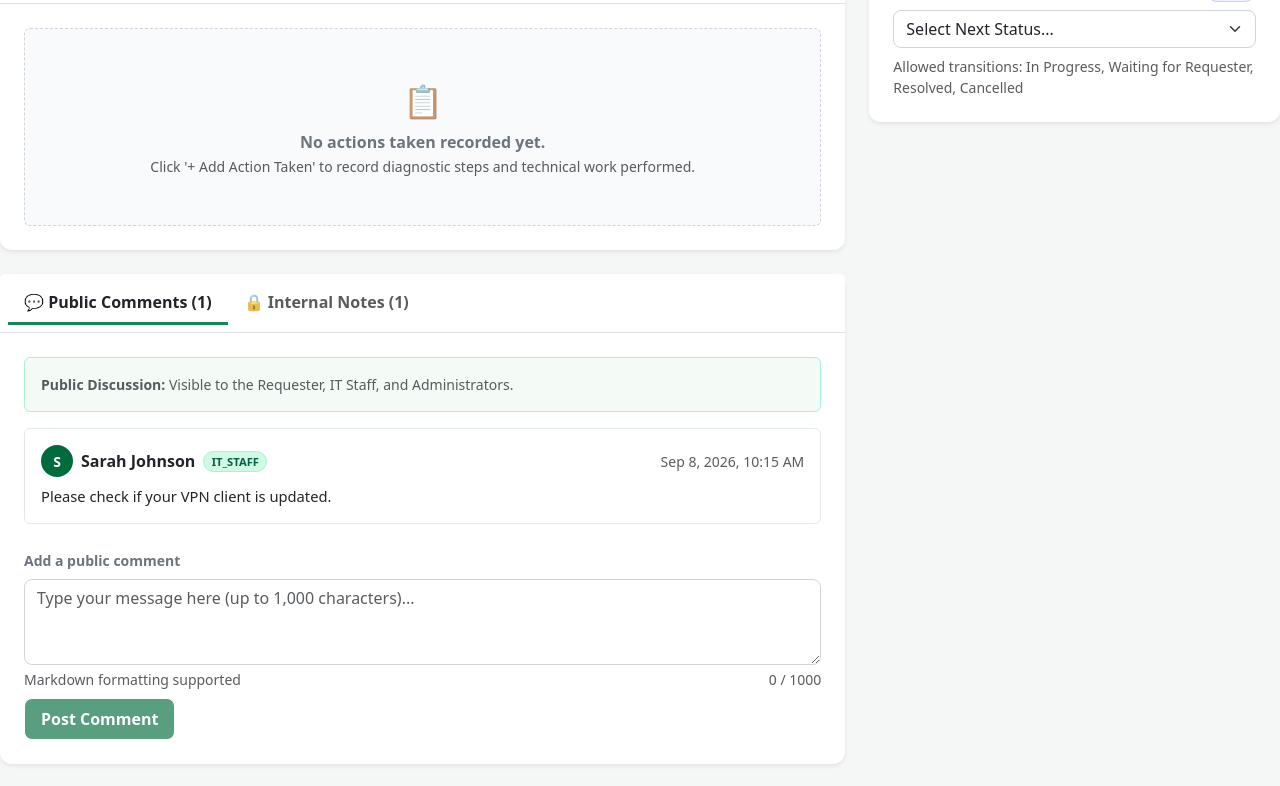
UI-04: Staff Ticket Detail & Operations Component Tests › UI-04: submits public comment with loading state
The width and height of the screenshot is (1280, 786).
(page scrolled)
Type "We deployed a patch to gateway 2." into the text box with placeholder "Type your message here (up to 1,000 characters)..." at (423, 622), box [24,579,821,665]
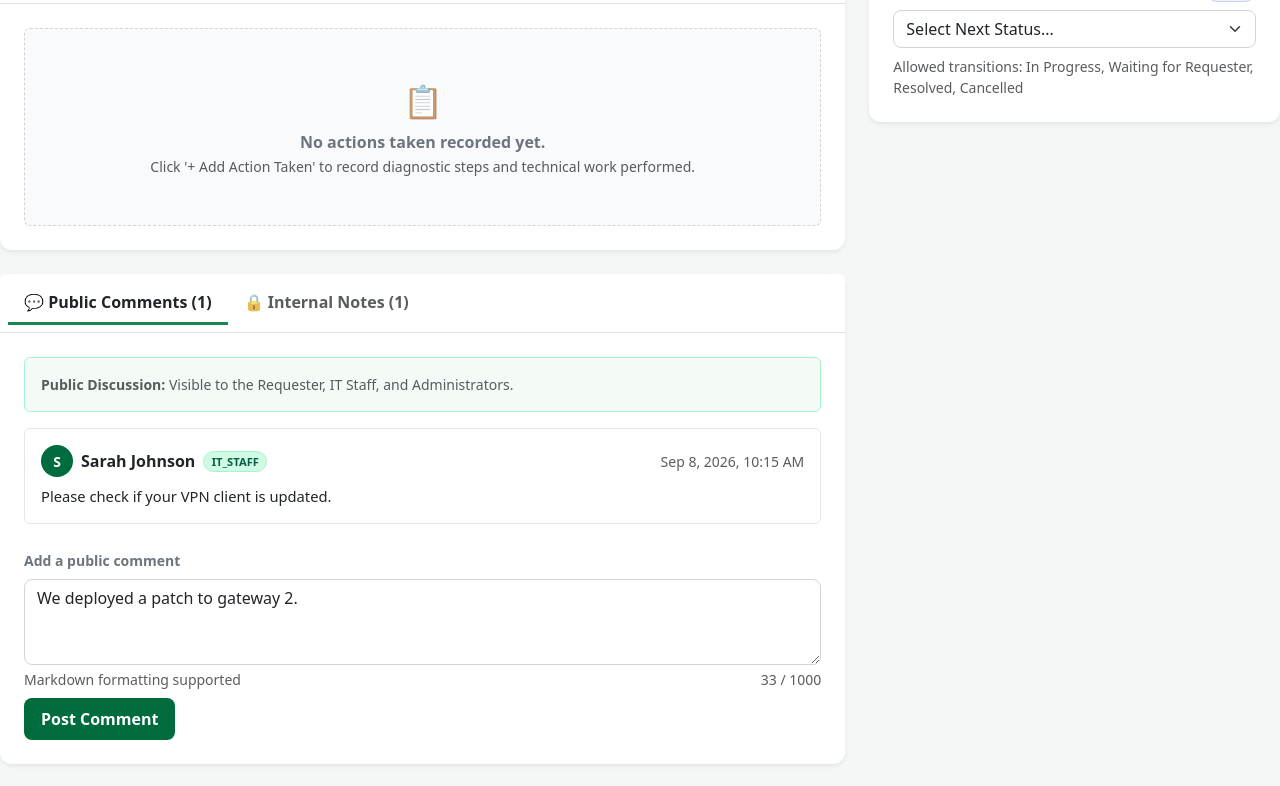
Click the button "Post Comment" at (100, 719), box [24,698,176,740]
(page scrolled)
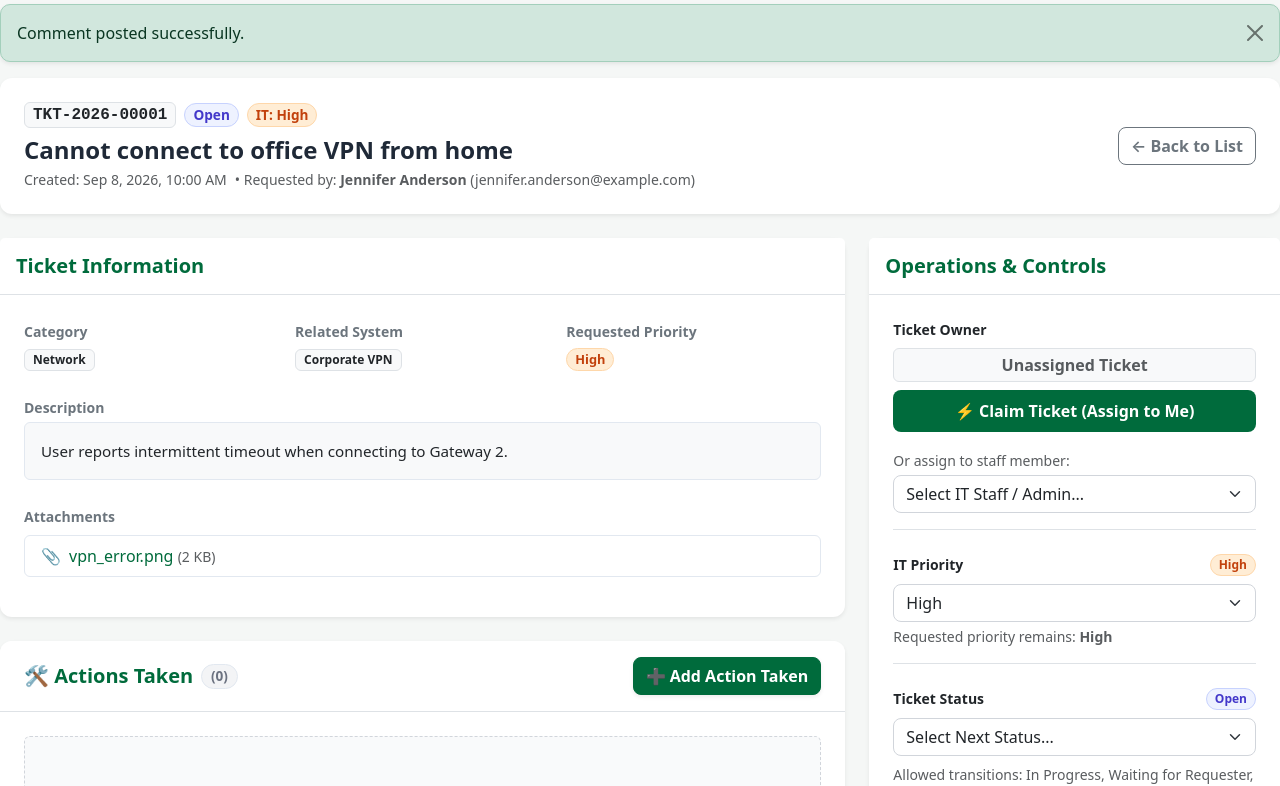
expect the text "Comment posted successfully." is shown: met, box [17,21,244,45]
